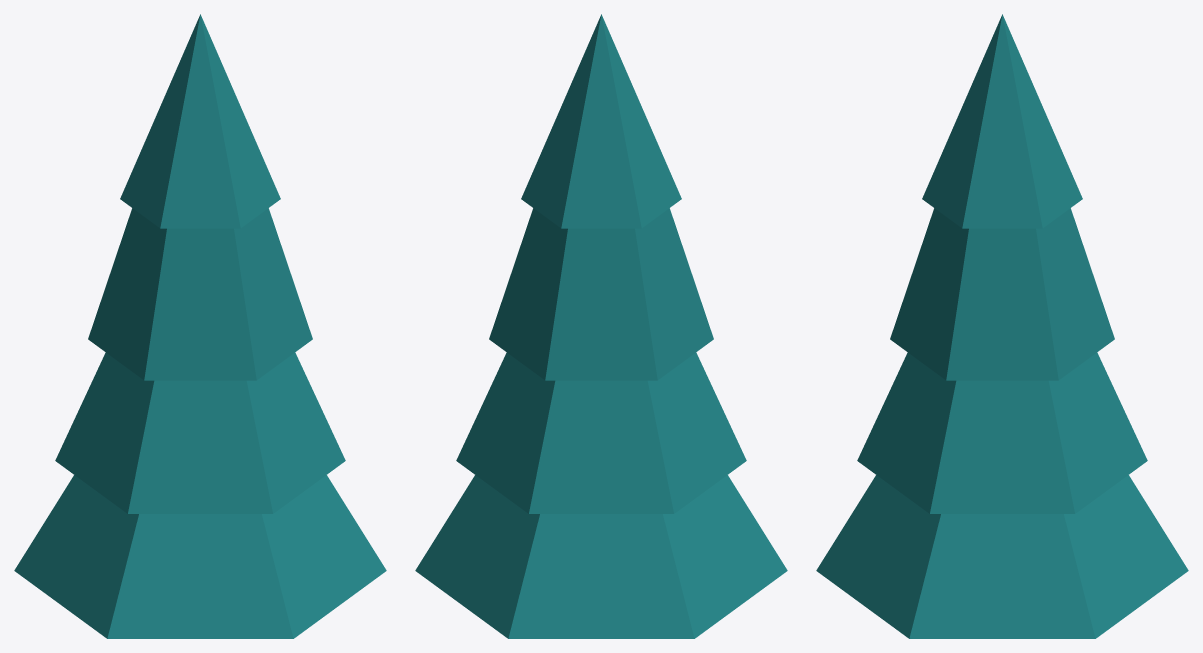
The model's file is pine_g.glb.
3 renders of one model, left to right at view 1: azimuth 30°, elevation 25°; view 2: azimuth 150°, elevation 25°; view 3: azimuth 270°, elevation 25°, orthographic.
Bounding box in the file's own units: 0.4804 × 0.9145 × 0.5547.
